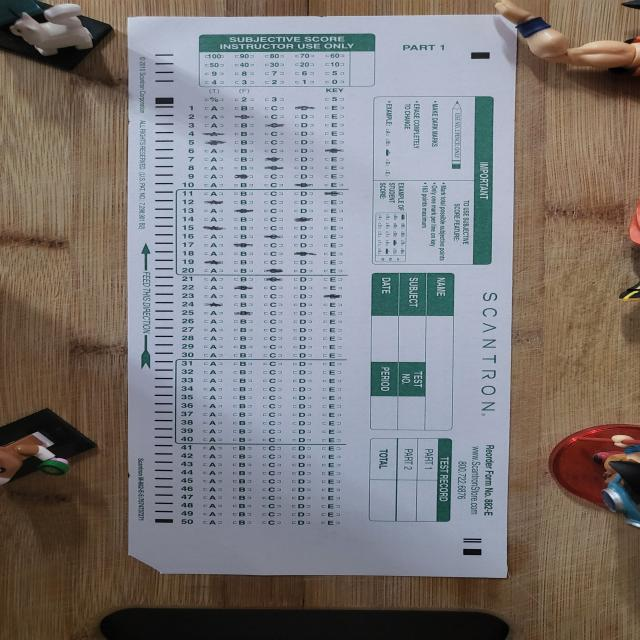scantron: (128, 14, 519, 579)
